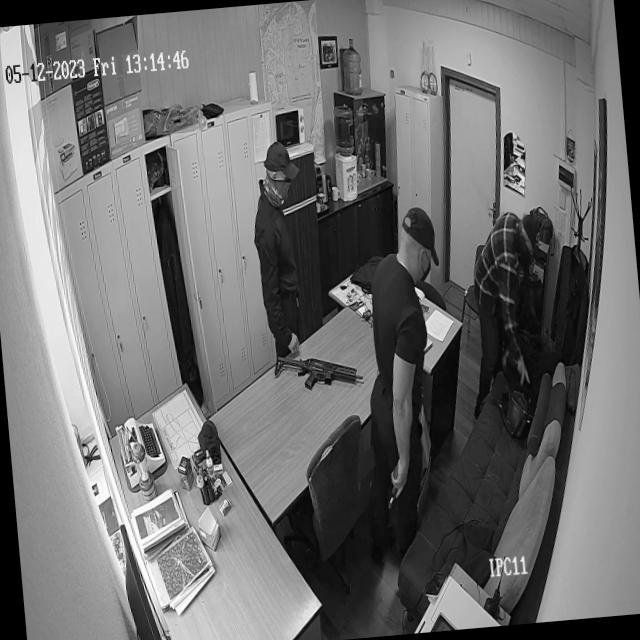gun: (272, 346, 364, 396), (382, 462, 410, 512)
person: (468, 210, 546, 398), (248, 143, 307, 354)
person with a gun: (355, 210, 454, 534)
